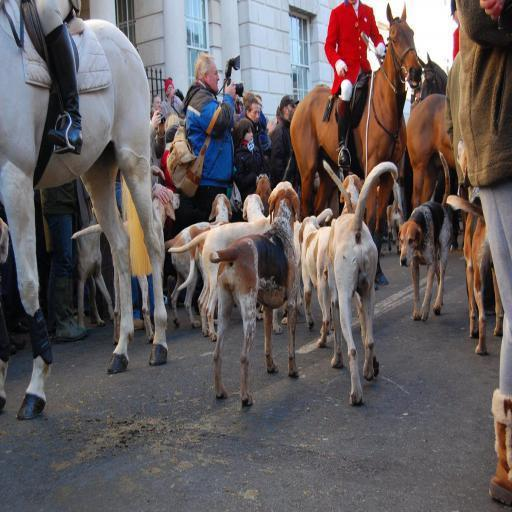horse: (0, 0, 169, 422), (290, 0, 422, 290), (405, 91, 457, 212), (416, 52, 448, 100)
